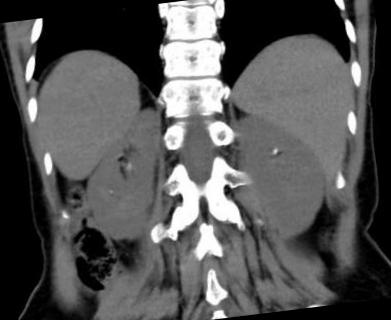Tas_Var: (269, 144, 282, 158), (121, 162, 136, 172), (114, 151, 127, 158), (105, 188, 114, 195)
